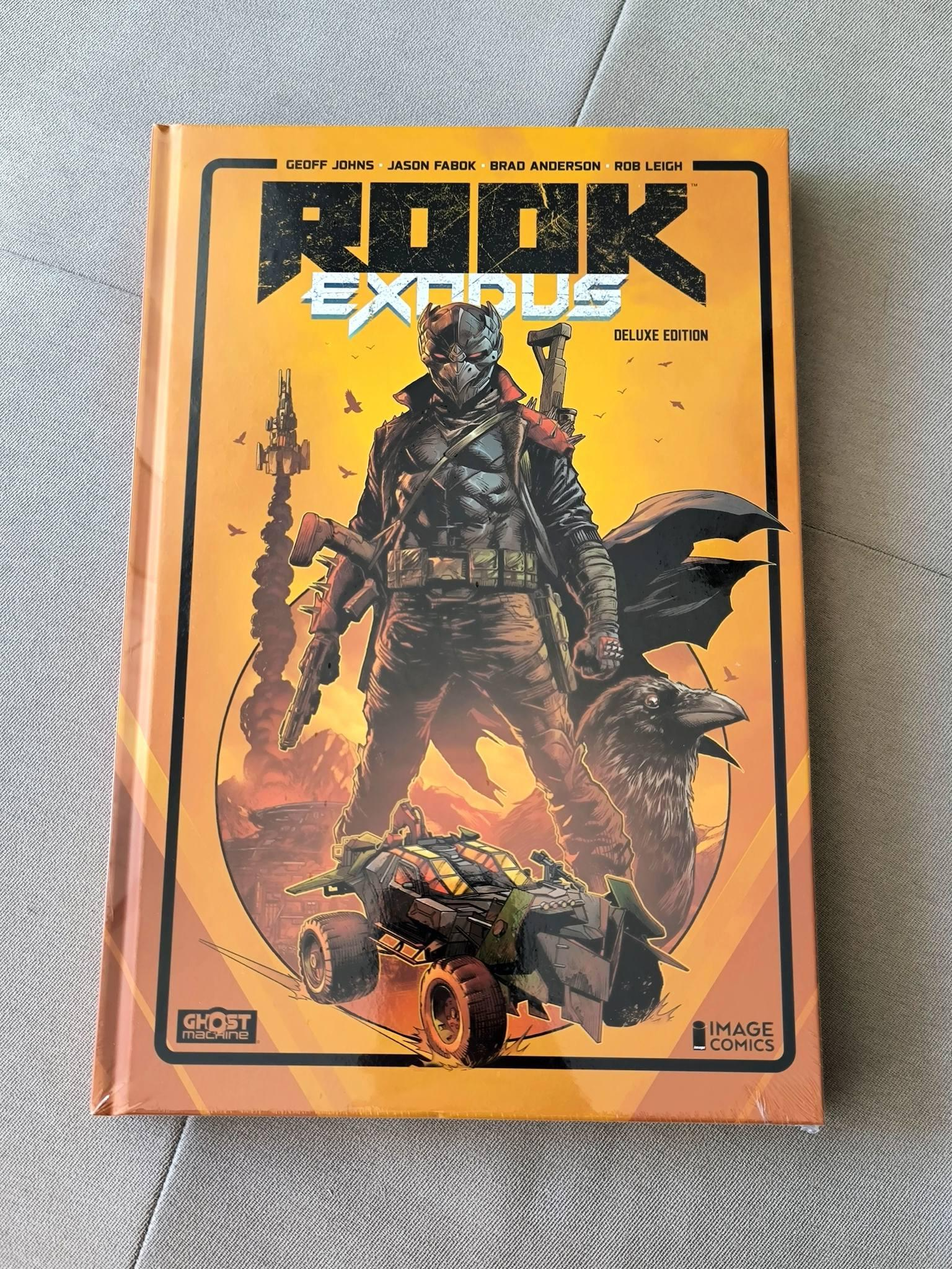comic: (92, 120, 837, 1124)
